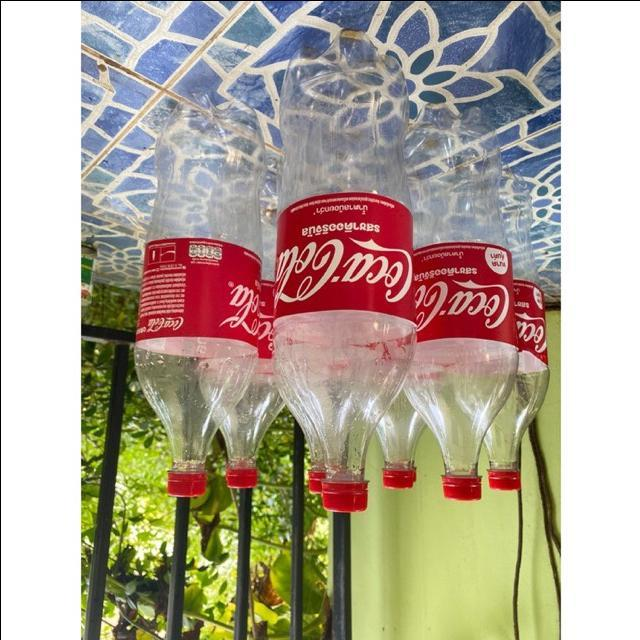PET Bottle: (261, 23, 417, 526), (120, 83, 282, 486), (465, 129, 574, 537), (409, 96, 517, 500), (211, 343, 286, 490), (372, 366, 432, 500)
